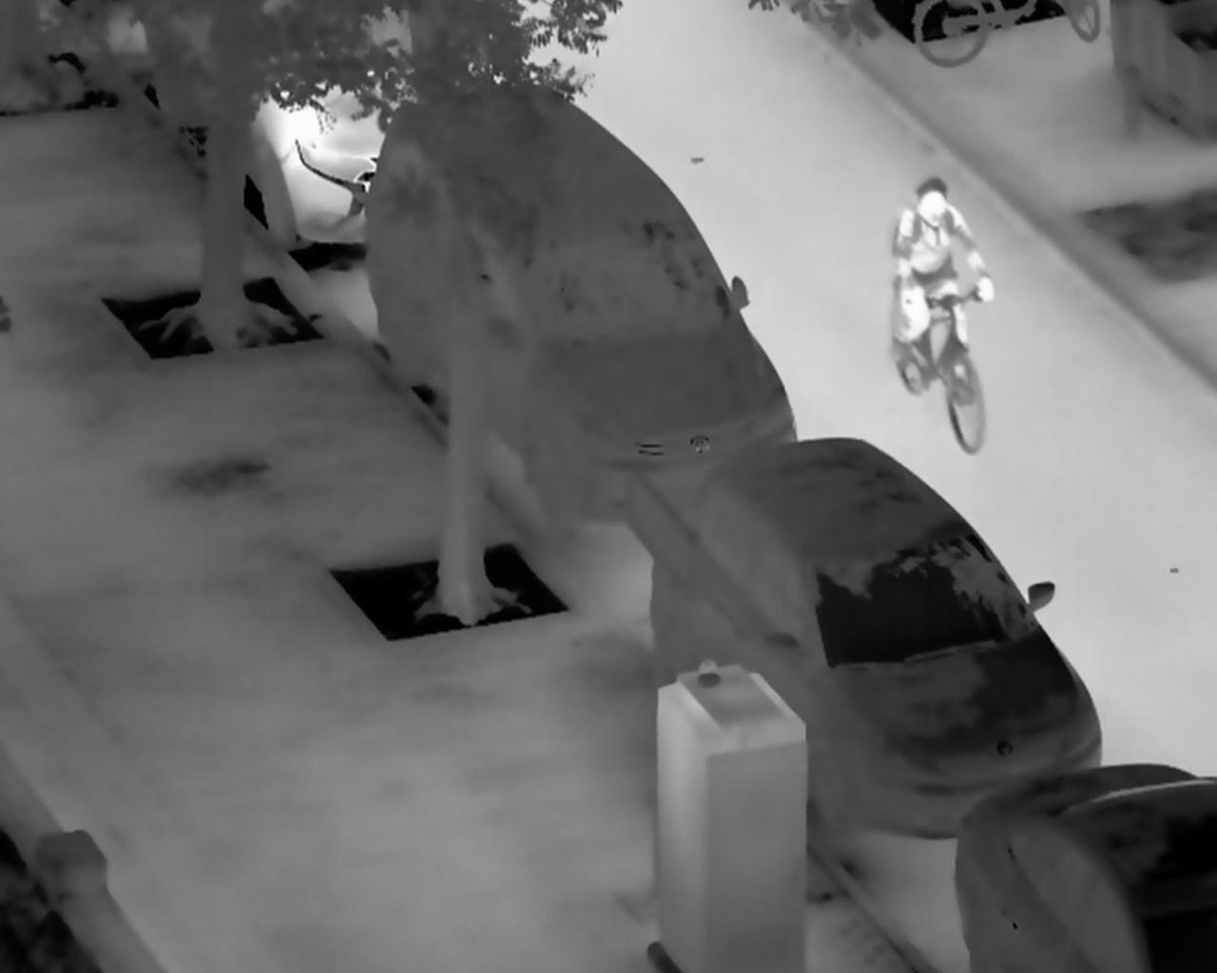person: (889, 177, 996, 343)
